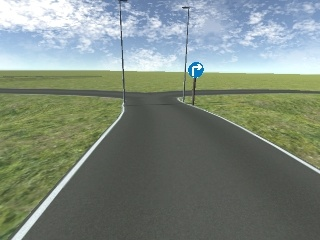TRight: (186, 60, 205, 79)
